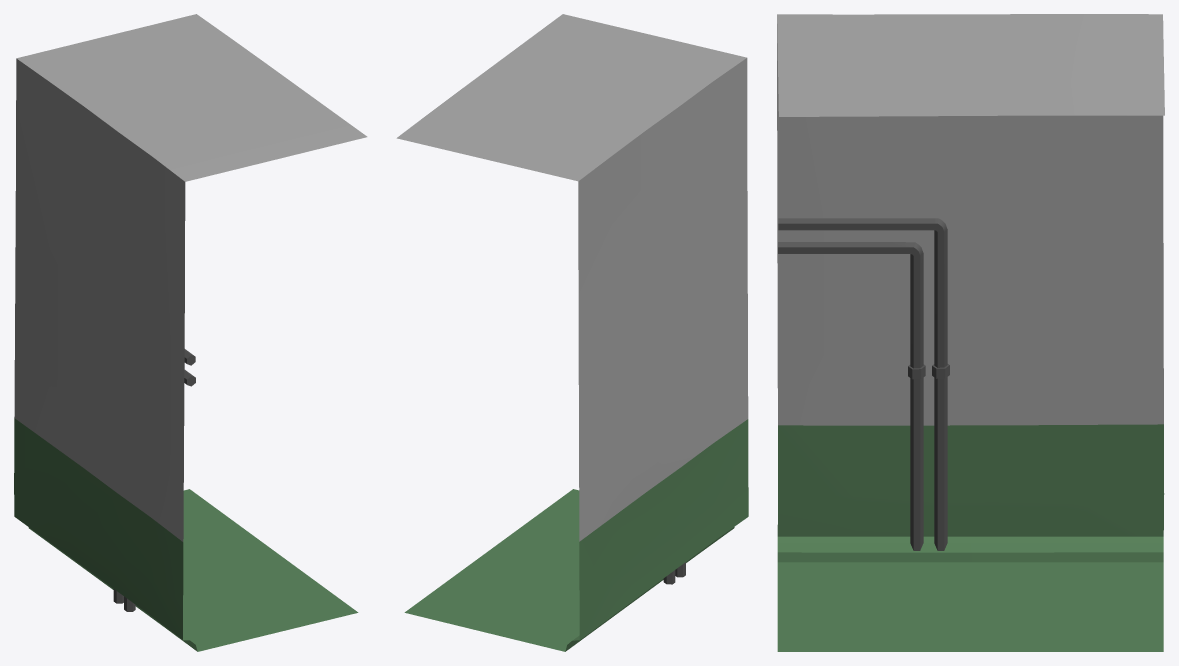
Rendered from Mapa6.fbx.
3 renders of one model, left to right at view 1: azimuth 30°, elevation 25°; view 2: azimuth 150°, elevation 25°; view 3: azimuth 270°, elevation 25°, orthographic. The views are drawn at different scales.
Visible parts, largest first — view 1: pCylinder33; view 2: pCylinder33; view 3: pCylinder33.
Boxes of the visible parts, <box> form: pCylinder33: <box>14,14,367,651</box>; pCylinder33: <box>396,14,748,651</box>; pCylinder33: <box>777,14,1164,651</box>.
Size of the model in its own units: 20.44 by 50.04 by 32.44.
